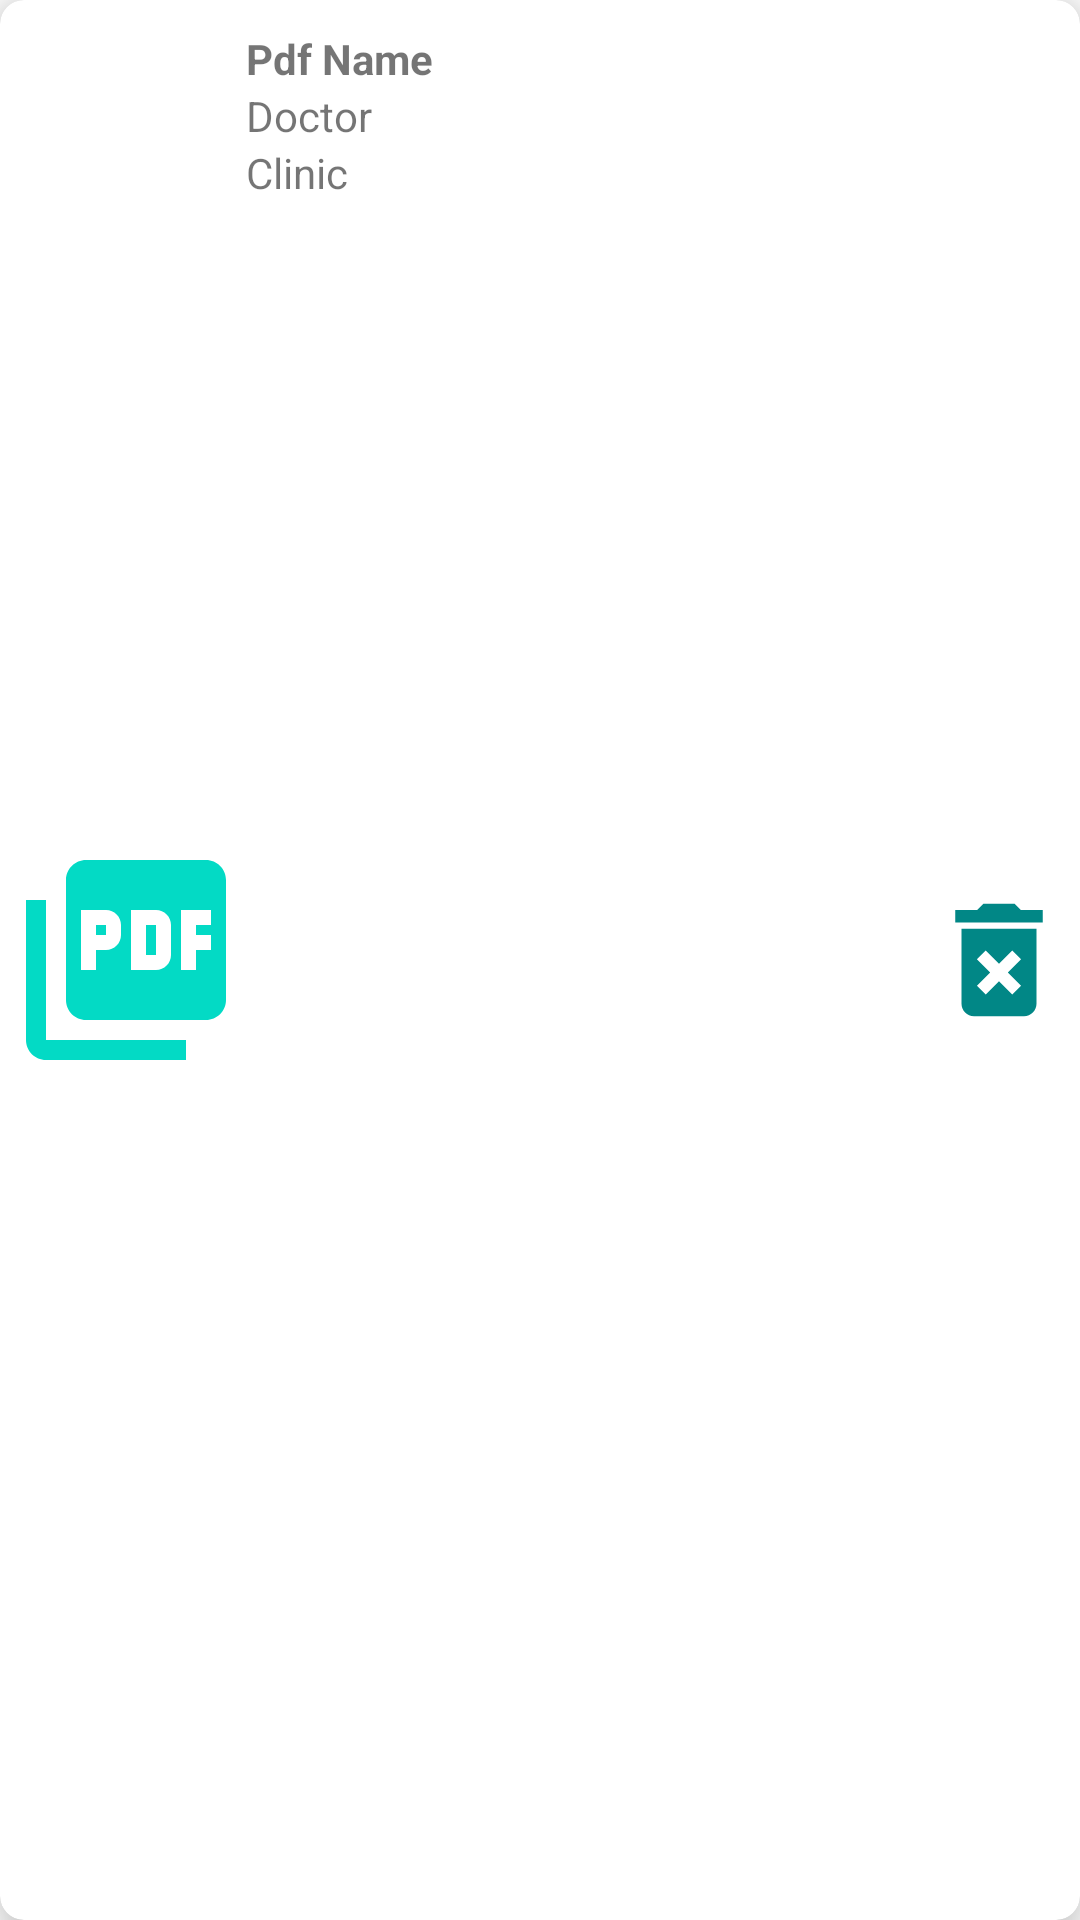

Icons on this 1080px×1920px Android screen, each with its box as (x1=x1, y1=y1, x2=x2, y2=y2):
delete: (x1=955, y1=903, x2=1043, y2=1017)
